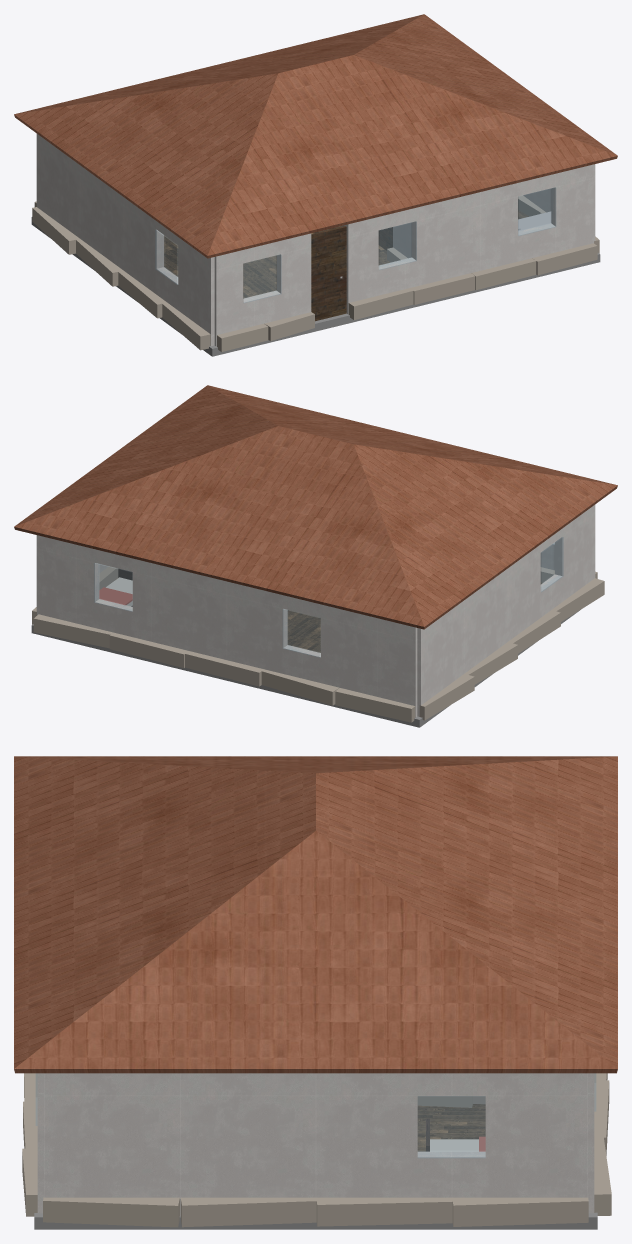
Rendered from house3.glb.
3 renders of one model, top to bottom at view 1: azimuth 30°, elevation 25°; view 2: azimuth 150°, elevation 25°; view 3: azimuth 270°, elevation 25°, orthographic. The views are drawn at different scales.
Visible parts, largest first — view 1: roof01, wall04, wall05, wall06, wall03, wall02, wall16, wall01, wall17, wall19, wall18, door01 (+17 smaller); view 2: roof01, wall15, wall13, wall11, wall12, wall14, wall16, wall17, wall19, wall18, window07, window06 (+13 smaller); view 3: roof01, wall07, wall08, wall09, wall10, window04, gruz09, gruz07, gruz10, gruz08, house3, house3_podloga (+7 smaller).
Boxes of the visible parts, box(x1,y1,x2,y2) form: roof01: box(14, 14, 617, 258); wall04: box(406, 194, 471, 287); wall05: box(471, 179, 532, 272); wall06: box(528, 164, 593, 257); wall03: box(344, 209, 410, 314); wall02: box(259, 233, 311, 323); wall16: box(36, 134, 80, 238); wall01: box(214, 245, 264, 346); wall17: box(80, 166, 123, 270); wall19: box(167, 229, 214, 346); wall18: box(123, 197, 174, 302); door01: box(311, 226, 346, 321); roof01: box(14, 385, 617, 629); wall15: box(339, 609, 417, 717); wall13: box(188, 572, 264, 668); wall11: box(38, 535, 117, 632); wall12: box(113, 554, 189, 650); wall14: box(264, 590, 340, 687); wall16: box(417, 600, 464, 716); wall17: box(464, 568, 508, 672); wall19: box(544, 505, 595, 609); wall18: box(508, 537, 551, 641); window07: box(94, 563, 132, 611); window06: box(283, 609, 320, 657); roof01: box(14, 756, 617, 1073); wall07: box(44, 1073, 180, 1215); wall08: box(179, 1073, 316, 1215); wall09: box(315, 1073, 452, 1197); wall10: box(451, 1073, 587, 1197); window04: box(418, 1096, 485, 1157); gruz09: box(316, 1197, 452, 1226); gruz07: box(43, 1197, 179, 1227); gruz10: box(452, 1197, 588, 1226); gruz08: box(180, 1197, 316, 1227); house3: box(34, 1212, 597, 1229); house3_podloga: box(417, 1104, 485, 1151).
Size of the model in its own units: 10.9 by 4.55 by 8.9.
Materials: 11 (5 with a texture image).
